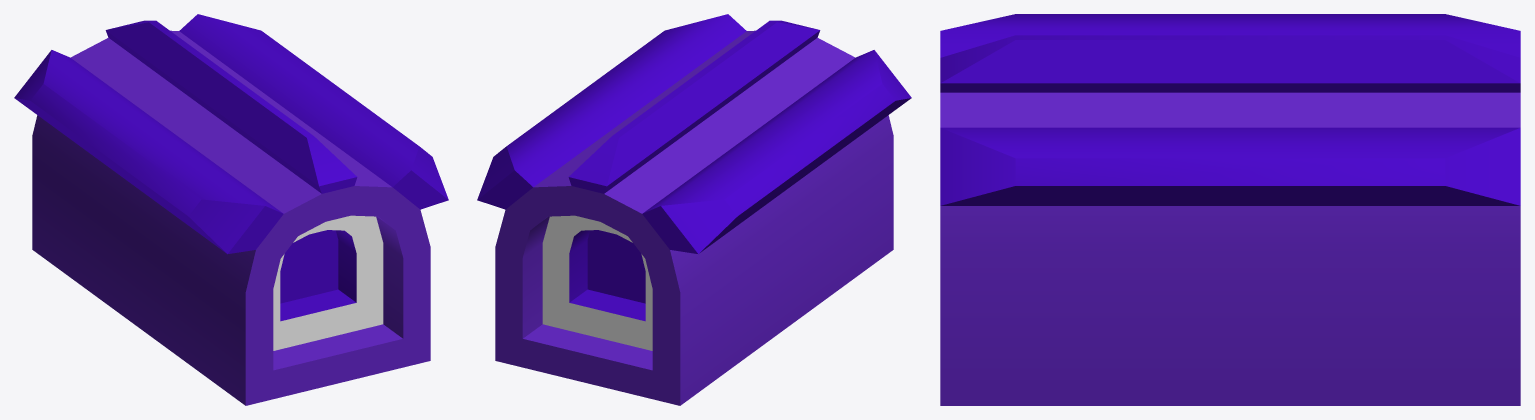
Rendered from valise_violet_s.fbx.
The picture shows the model from 3 angles, left to right: view 1: azimuth 30°, elevation 25°; view 2: azimuth 150°, elevation 25°; view 3: azimuth 270°, elevation 25°; orthographic projection. The views are drawn at different scales.
Visible parts, largest first — view 1: valise_violet; view 2: valise_violet; view 3: valise_violet.
Boxes of the visible parts, x1=… form: valise_violet: x1=14, y1=14, x2=448, y2=405; valise_violet: x1=477, y1=14, x2=911, y2=405; valise_violet: x1=940, y1=14, x2=1520, y2=405.
Bounding box in the file's own units: 66.04 × 58.42 × 100.
